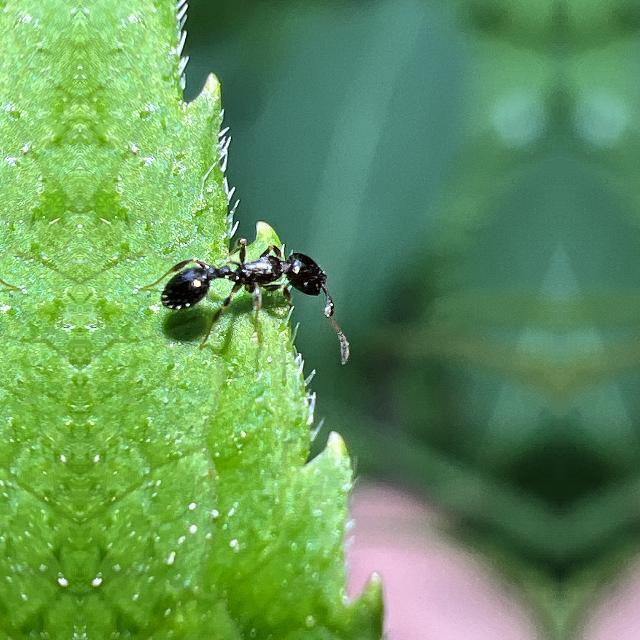Temnothorax: (148, 224, 342, 340)
